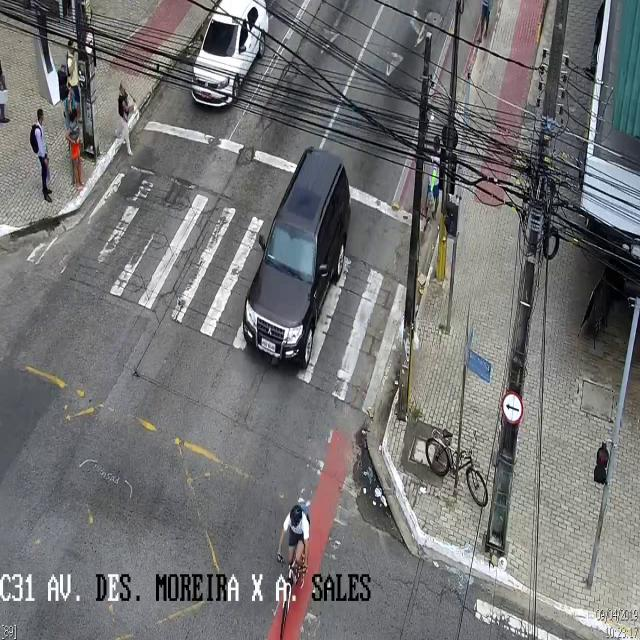Car: (243, 146, 351, 370), (192, 1, 271, 112)
